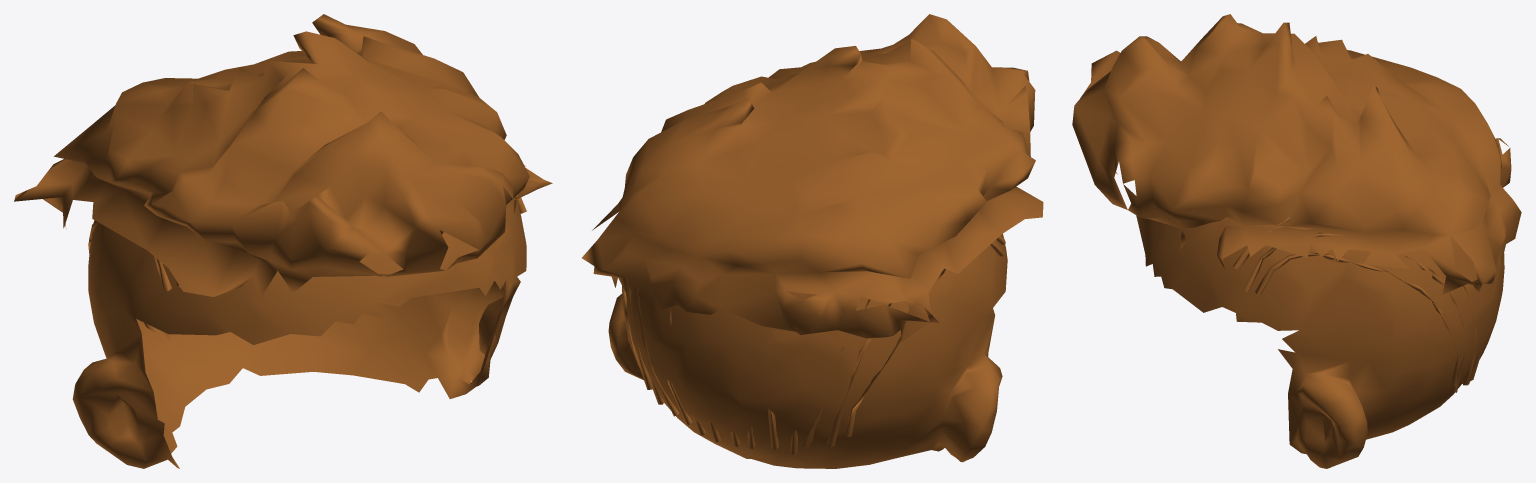
The model's file is quiff.glb.
3 views of the same model, side by side, from view 1: azimuth 30°, elevation 25°; view 2: azimuth 150°, elevation 25°; view 3: azimuth 270°, elevation 25° (orthographic). The views are drawn at different scales.
Parts seen in each view (by area): view 1: Hair, HairScalp; view 2: Hair, HairScalp, HairPulledRootStrands; view 3: Hair, HairScalp, HairPulledRootStrands.
Boxes of the visible parts, bbox=[...] form: Hair: bbox=[14, 14, 552, 298]; HairScalp: bbox=[72, 68, 526, 468]; Hair: bbox=[582, 14, 1043, 341]; HairScalp: bbox=[608, 159, 1007, 468]; HairPulledRootStrands: bbox=[623, 236, 1005, 454]; Hair: bbox=[1072, 14, 1521, 294]; HairScalp: bbox=[1136, 108, 1504, 468]; HairPulledRootStrands: bbox=[1216, 216, 1484, 392].
Size of the model in its own units: 0.5123 by 0.4757 by 0.5275.
